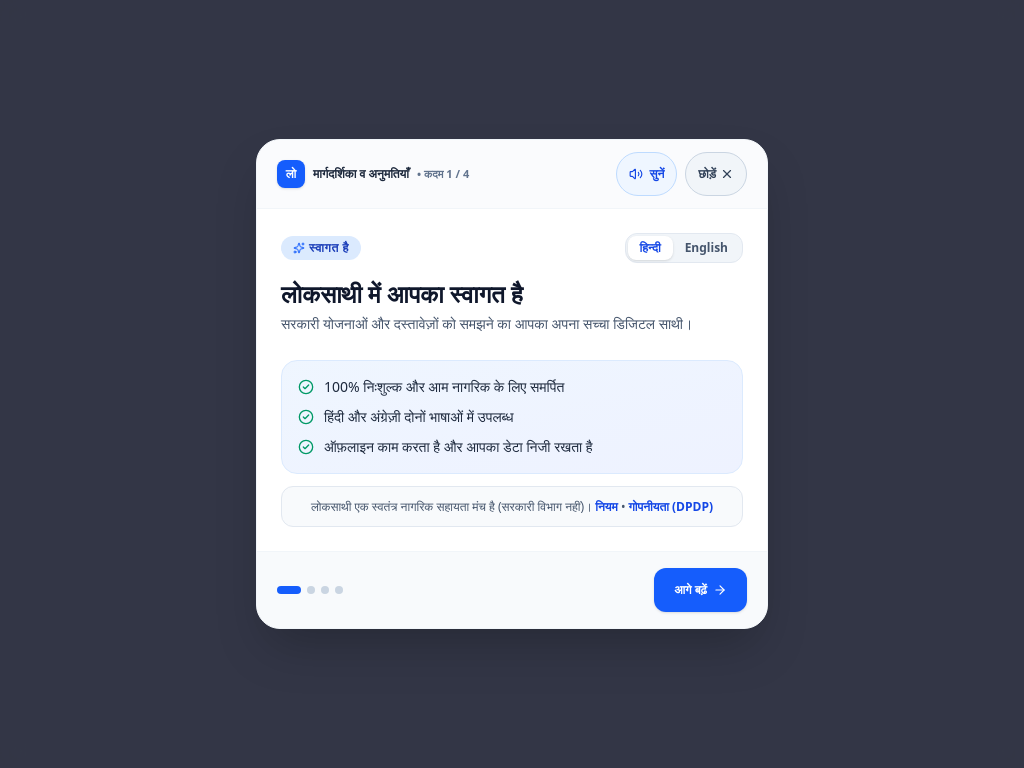
Test: OnboardingGuide Component › advances through the 4 onboarding steps with Next and Back buttons
This screenshot has width=1024, height=768.
Expected: the heading "लोकसाथी में आपका स्वागत है" is shown, 281,277 -> 523,310
Click the button "आगे बढ़ें". click: (701, 590)
box: 654,568 -> 747,612
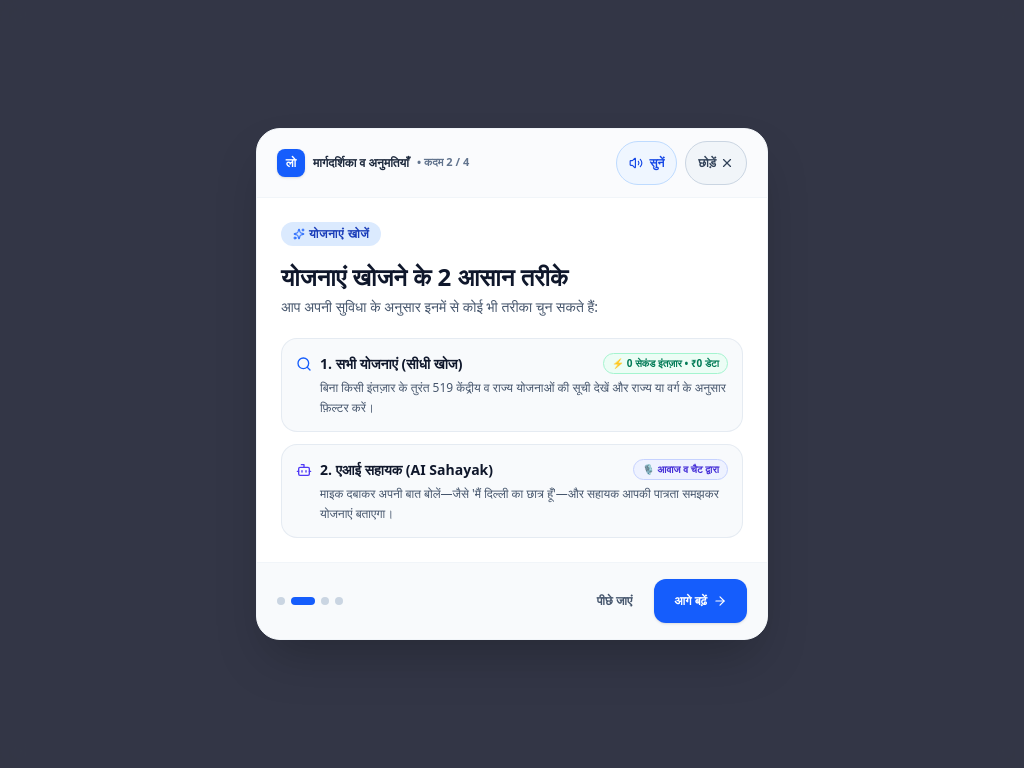
Now the heading "योजनाएं खोजने के 2 आसान तरीके" is shown, box 281,260 -> 568,293
Click the button "आगे बढ़ें". click: (701, 601)
box: 654,579 -> 747,623
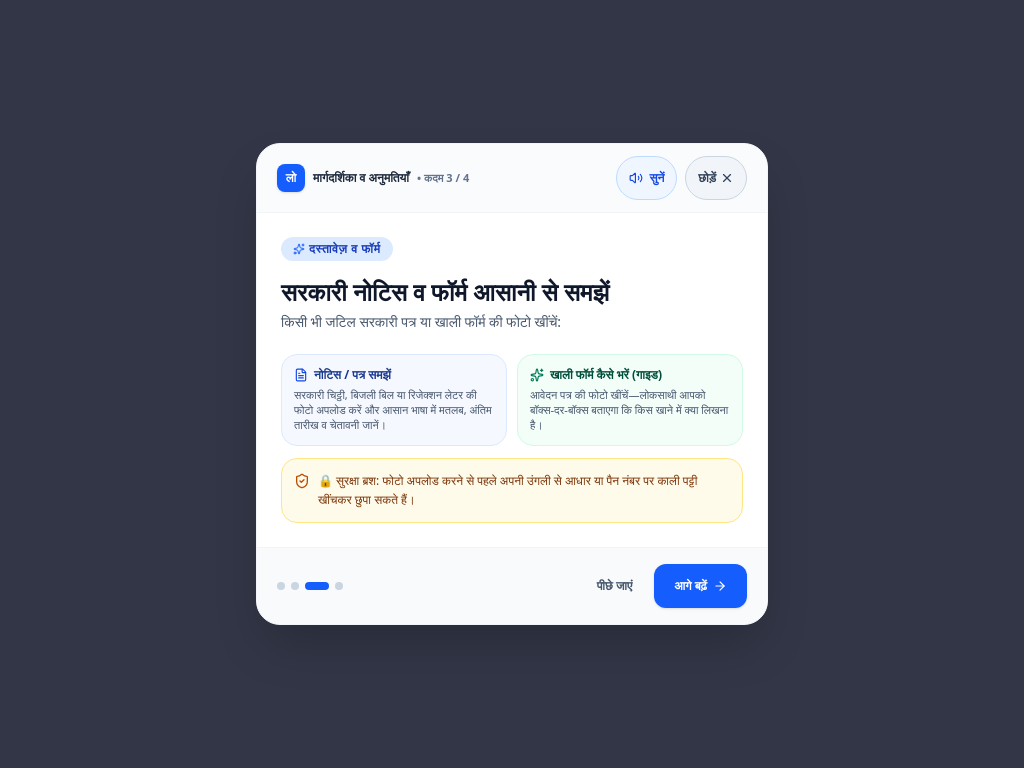
Now the heading "सरकारी नोटिस व फॉर्म आसानी से समझें" is shown, box 281,275 -> 609,308
Click the button "आगे बढ़ें". click: (701, 586)
box: 654,564 -> 747,608
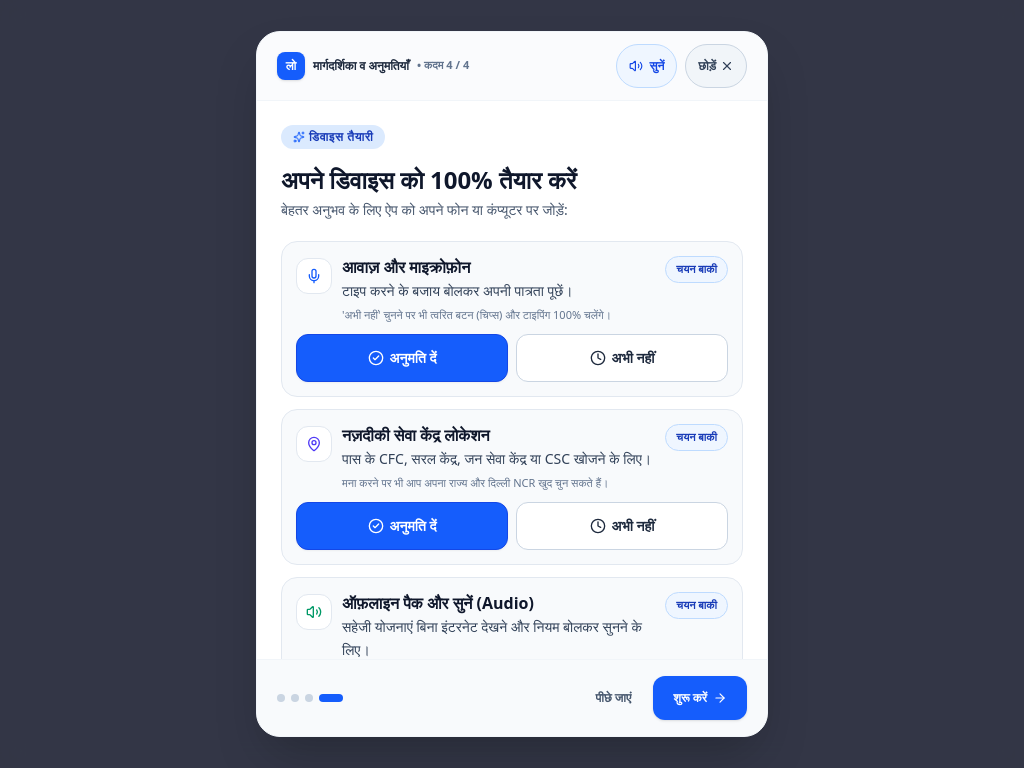
Now the heading "अपने डिवाइस को 100% तैयार करें" is shown, box 281,163 -> 576,196
Click the button "पीछे जाएं". click: (613, 698)
box: 582,676 -> 645,720
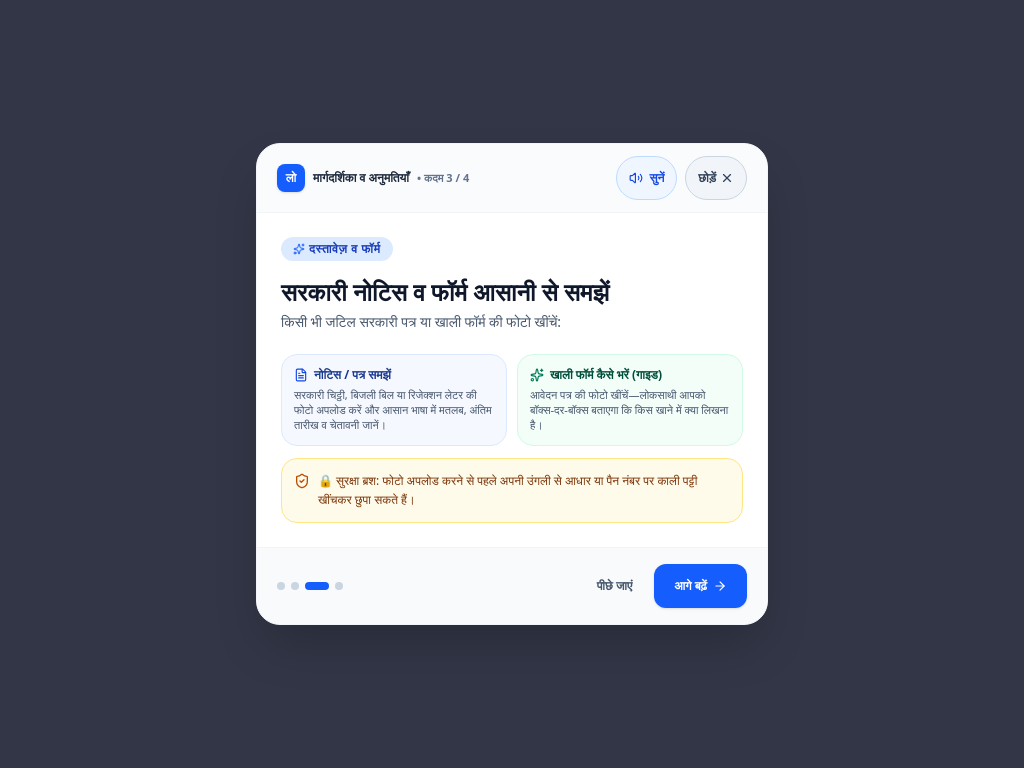
Now the heading "सरकारी नोटिस व फॉर्म आसानी से समझें" is shown, box 281,275 -> 609,308
